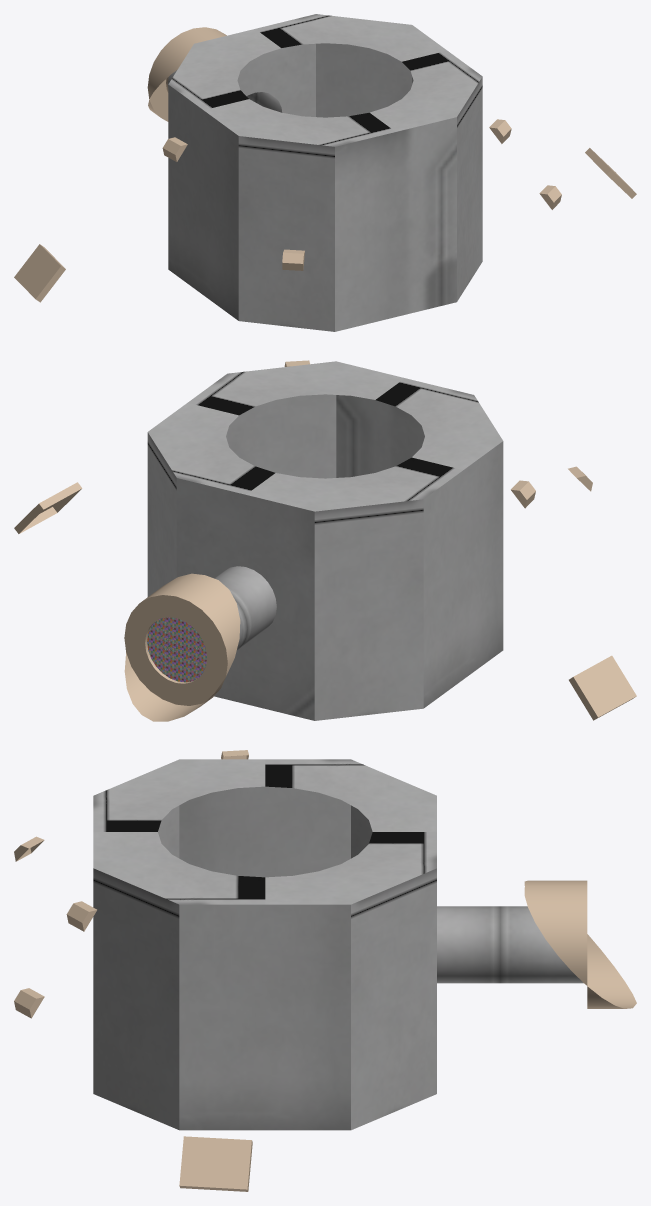
File: vega_adapter_s2_s1_1_interior.obj
3 views of the same model, one above another, from view 1: azimuth 30°, elevation 25°; view 2: azimuth 150°, elevation 25°; view 3: azimuth 270°, elevation 25° (orthographic). The views are drawn at different scales.
Visible parts, largest first — view 1: i1, im1; view 2: i1, im1, iw1; view 3: i1, im1.
Boxes of the visible parts, x1=… form: i1: x1=167, y1=14, x2=482, y2=331; im1: x1=14, y1=27, x2=636, y2=302; i1: x1=147, y1=361, x2=503, y2=720; im1: x1=14, y1=360, x2=636, y2=721; iw1: x1=147, y1=617, x2=206, y2=682; i1: x1=93, y1=759, x2=582, y2=1130; im1: x1=14, y1=750, x2=636, y2=1191.
Size of the model in its own units: 2.32 by 0.725 by 1.81.
